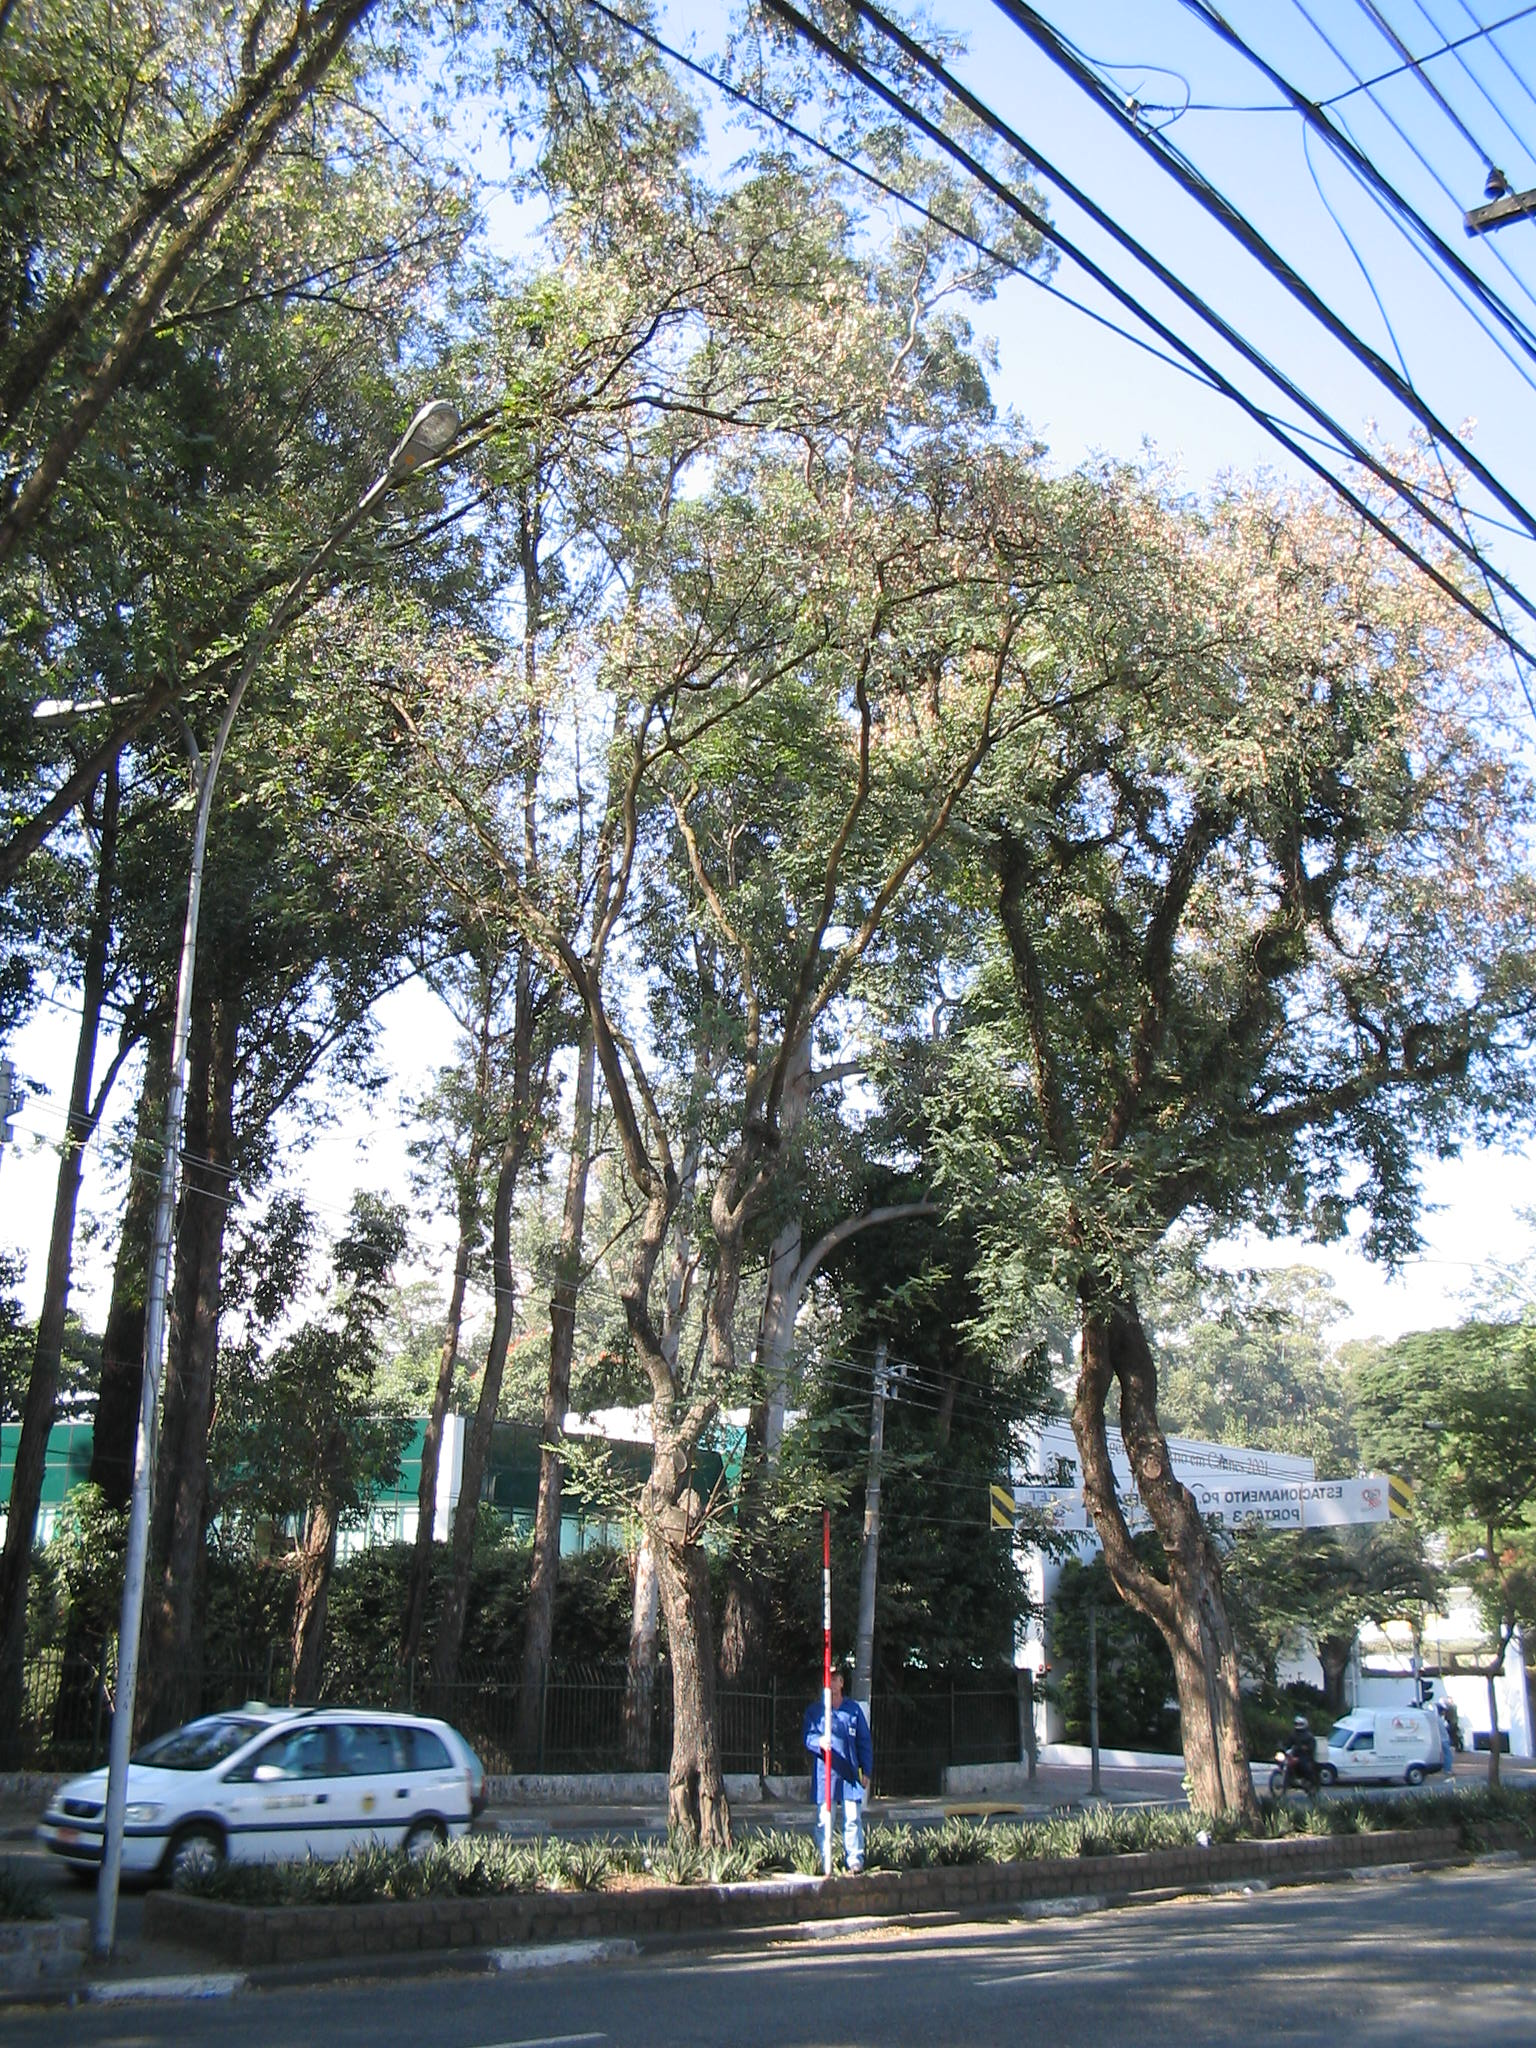crown: (273, 176, 1381, 1055), (923, 418, 1515, 1297)
stem: (599, 1432, 773, 1874), (1110, 1603, 1291, 1842)
stick: (795, 1505, 860, 1874)
tree: (265, 168, 1394, 1882), (912, 413, 1525, 1845)
